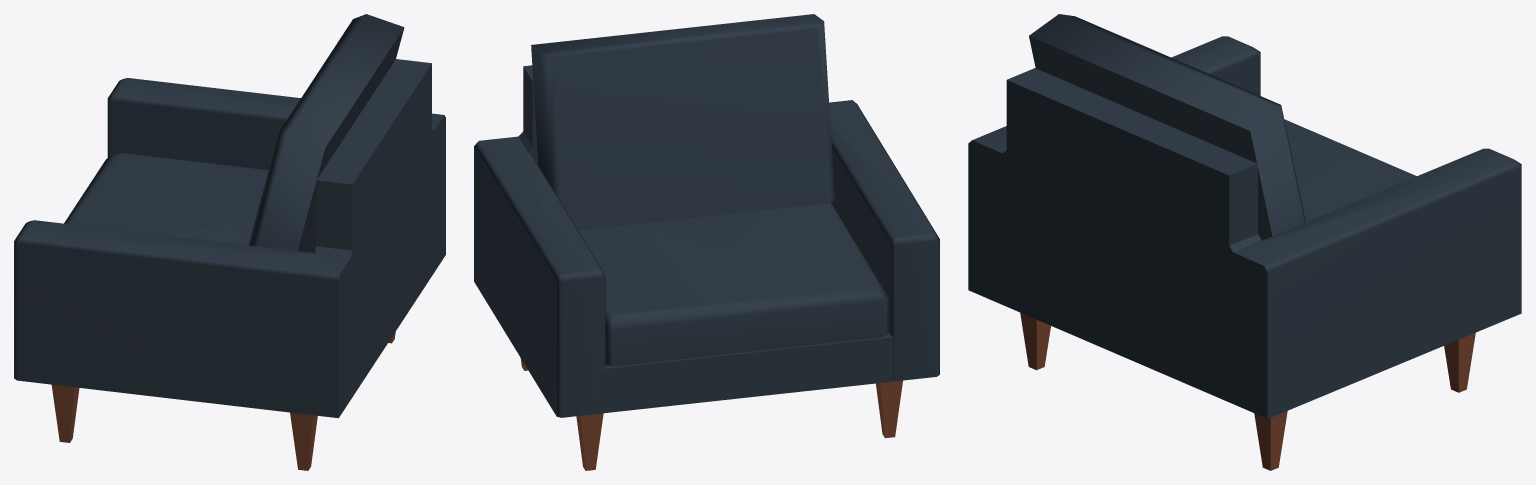
The model's file is Armchair.fbx.
3 renders of one model, left to right at view 1: azimuth 30°, elevation 25°; view 2: azimuth 150°, elevation 25°; view 3: azimuth 270°, elevation 25°, orthographic. The views are drawn at different scales.
Parts seen in each view (by area): view 1: Armchair; view 2: Armchair; view 3: Armchair.
Boxes of the visible parts, x1=… form: Armchair: x1=14, y1=14, x2=445, y2=470; Armchair: x1=474, y1=14, x2=939, y2=470; Armchair: x1=968, y1=14, x2=1521, y2=470.
Size of the model in its own units: 132 by 92.12 by 132.
